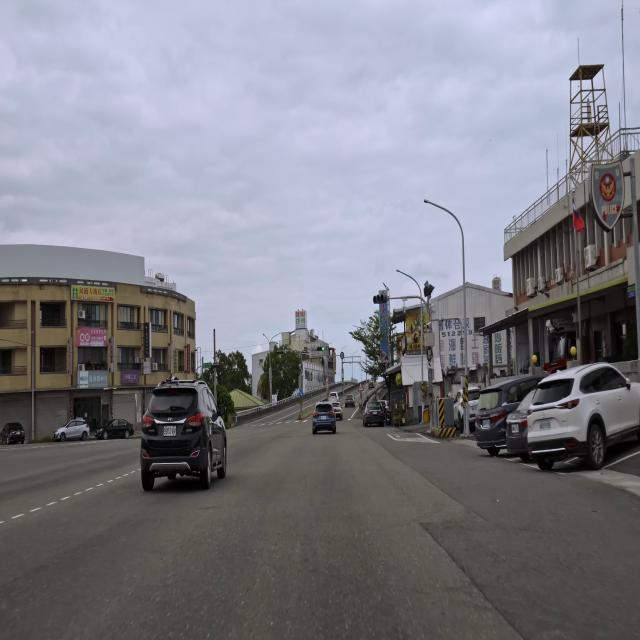green light: (317, 347, 324, 351)
